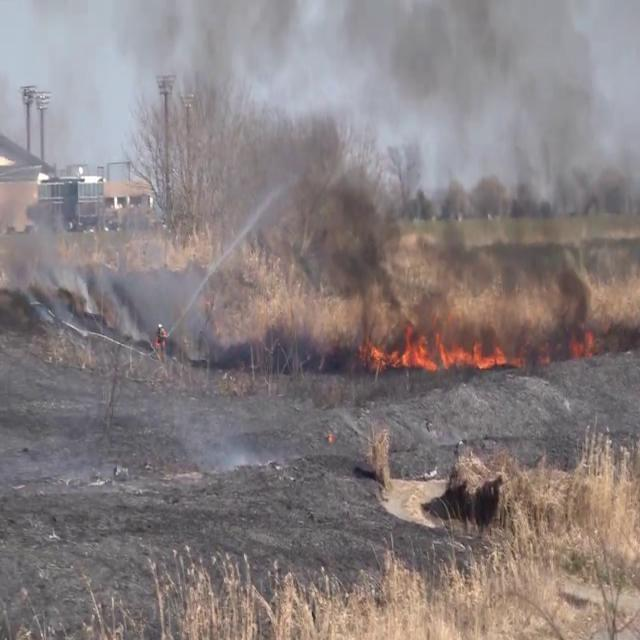Fire: (364, 322, 520, 378), (568, 324, 600, 362)
Smoke: (114, 1, 636, 339)
